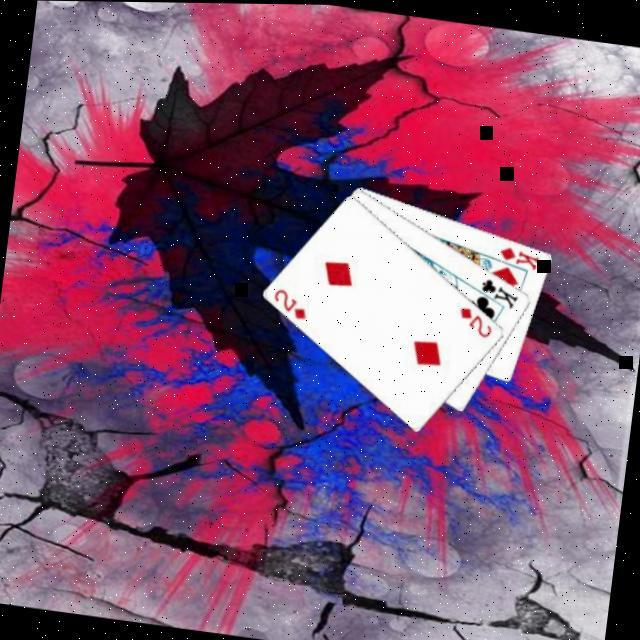2D: (270, 281, 314, 320), (456, 300, 500, 338)
KC: (470, 270, 524, 310)
KD: (497, 238, 545, 270)
